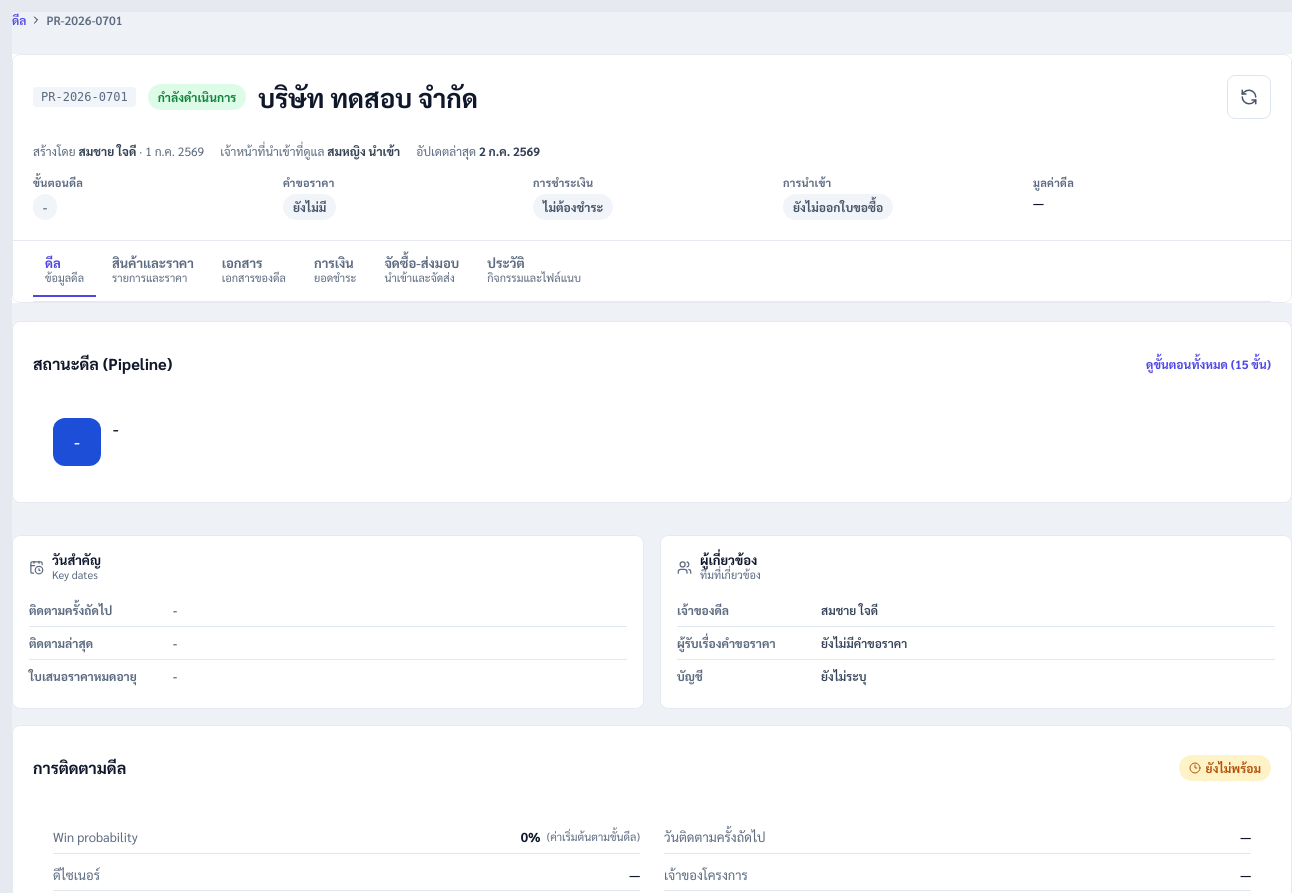
Scenario: TicketDetailPage › items grid: read-only fallback to pricing-chain quotation items (B5 fix) › a deal WITH real ticket_item rows stays fully editable, with no banner
Click the tab "สินค้าและราคา รายการและราคา". click: (153, 271)
box: top-left (100, 245), bottom-right (206, 297)
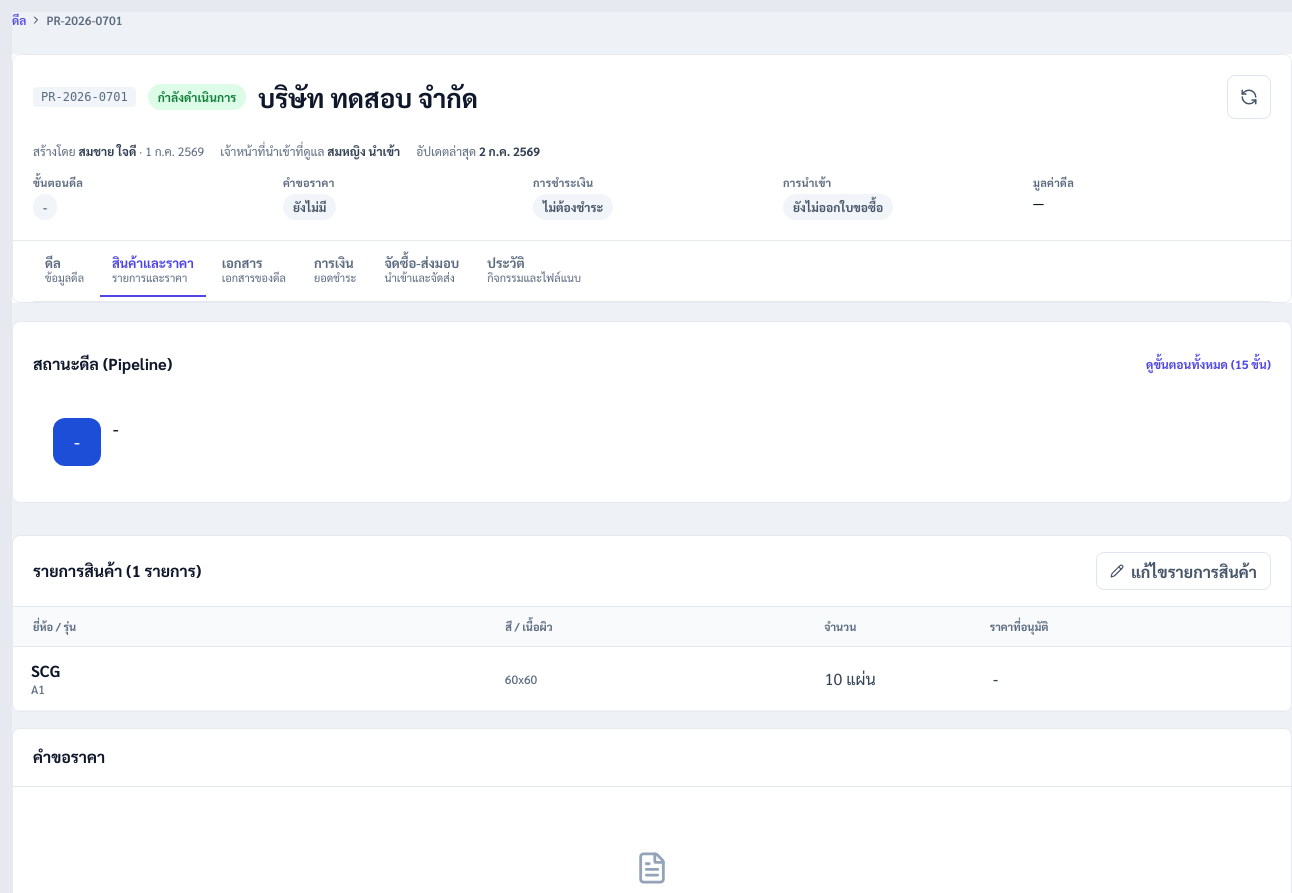
Check: the button "แก้ไขรายการสินค้า" is shown, box top-left (1096, 552), bottom-right (1271, 590)
